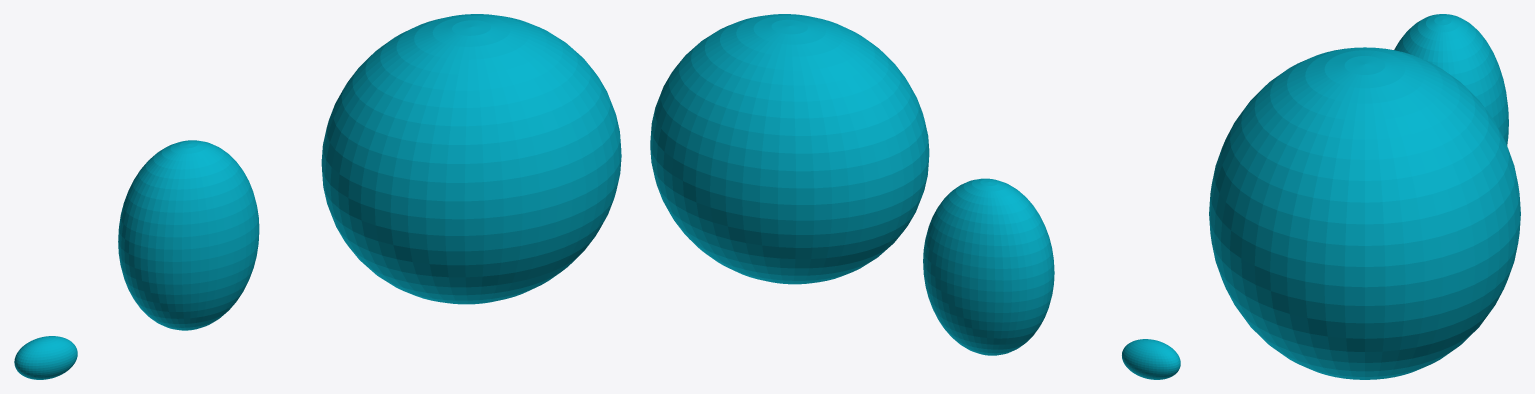
3 views of the same model, side by side, from view 1: azimuth 30°, elevation 25°; view 2: azimuth 150°, elevation 25°; view 3: azimuth 270°, elevation 25° (orthographic). The views are drawn at different scales.
Parts seen in each view (by area): view 1: Mesh_Mesh_head_geo.001_lambert2SG.001; view 2: Mesh_Mesh_head_geo.001_lambert2SG.001; view 3: Mesh_Mesh_head_geo.001_lambert2SG.001.
Part boxes in pixels (box(x1,y1,x2,y2)): Mesh_Mesh_head_geo.001_lambert2SG.001: box(14, 14, 621, 379); Mesh_Mesh_head_geo.001_lambert2SG.001: box(650, 14, 1180, 379); Mesh_Mesh_head_geo.001_lambert2SG.001: box(1209, 14, 1520, 379).
Size of the model in its own units: 124 by 55 by 52.
